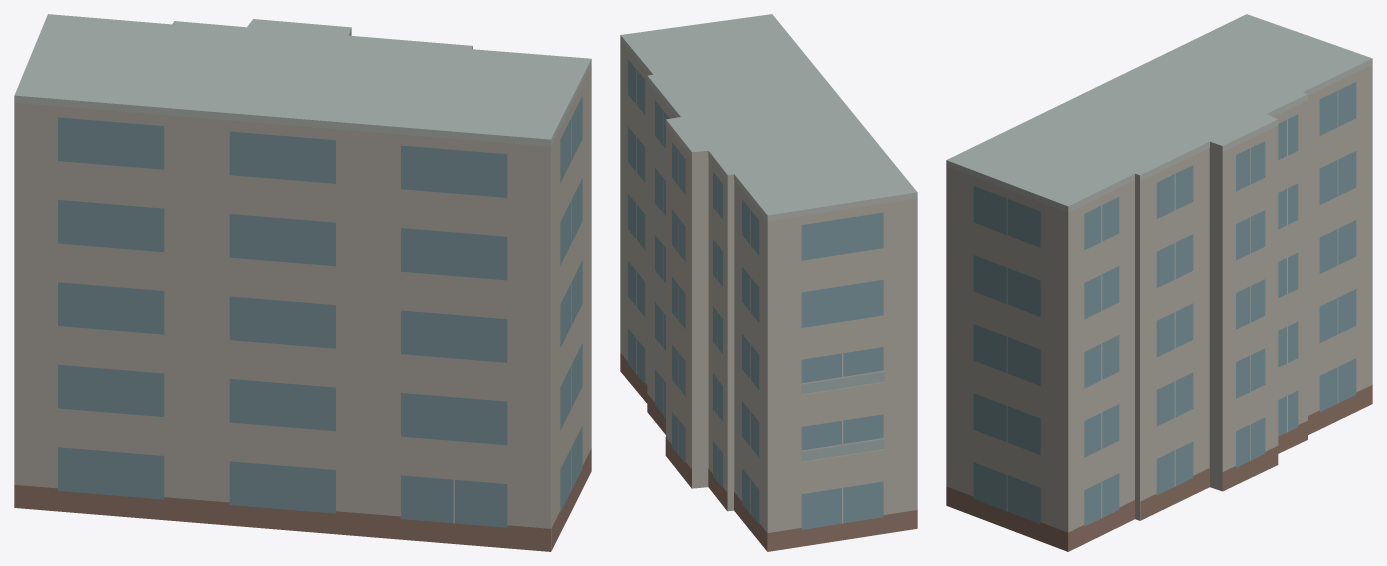
File: survey-upis-32976045.glb
3 renders of one model, left to right at view 1: azimuth 30°, elevation 25°; view 2: azimuth 150°, elevation 25°; view 3: azimuth 270°, elevation 25°, orthographic. The views are drawn at different scales.
Parts seen in each view (by area): view 1: survey-upis-32976045.tmp; view 2: survey-upis-32976045.tmp; view 3: survey-upis-32976045.tmp.
Boxes of the visible parts, x1,y1,x2,y2 form: survey-upis-32976045.tmp: [14, 14, 591, 551]; survey-upis-32976045.tmp: [620, 14, 917, 551]; survey-upis-32976045.tmp: [946, 14, 1372, 551].
Size of the model in its own units: 16.67 by 13.95 by 15.61.
